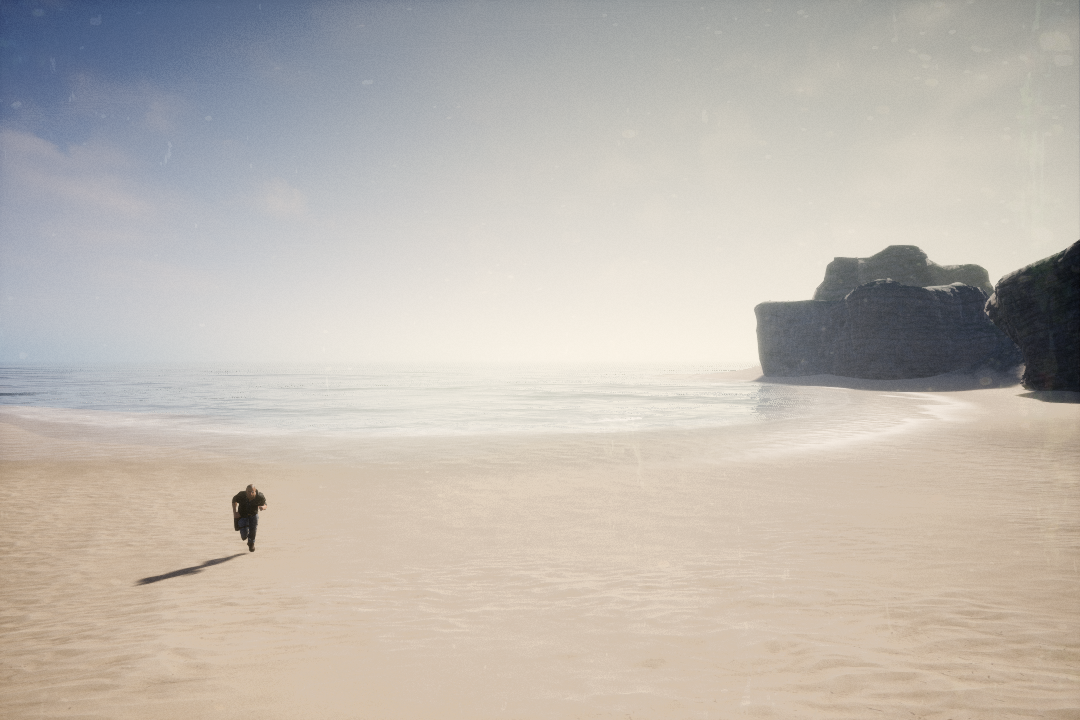person: (228, 482, 271, 554)
